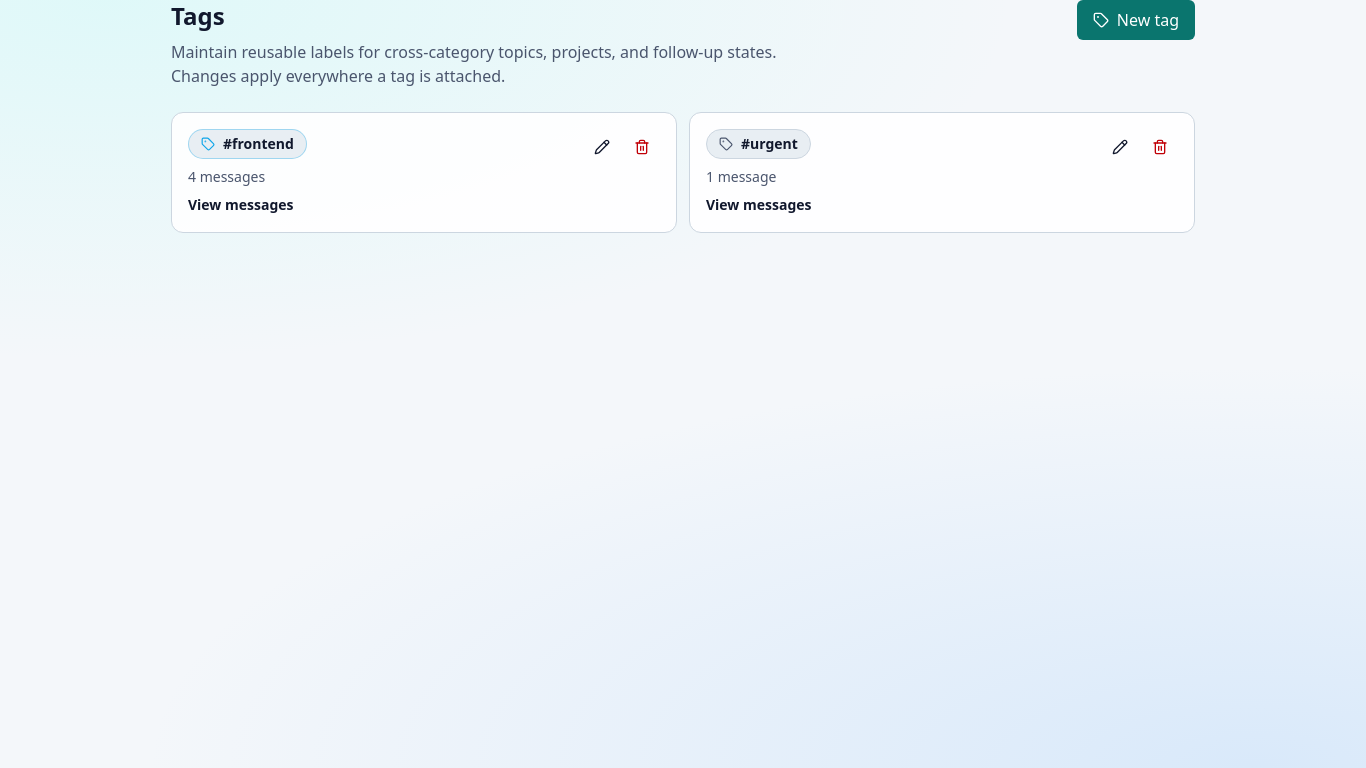
Test case: TagsPage › creates and edits a tag
Expected: the text "#frontend" is shown, [223,134,294,154]
Click the button "New tag" at (1136, 20), box [1077,0,1195,40]
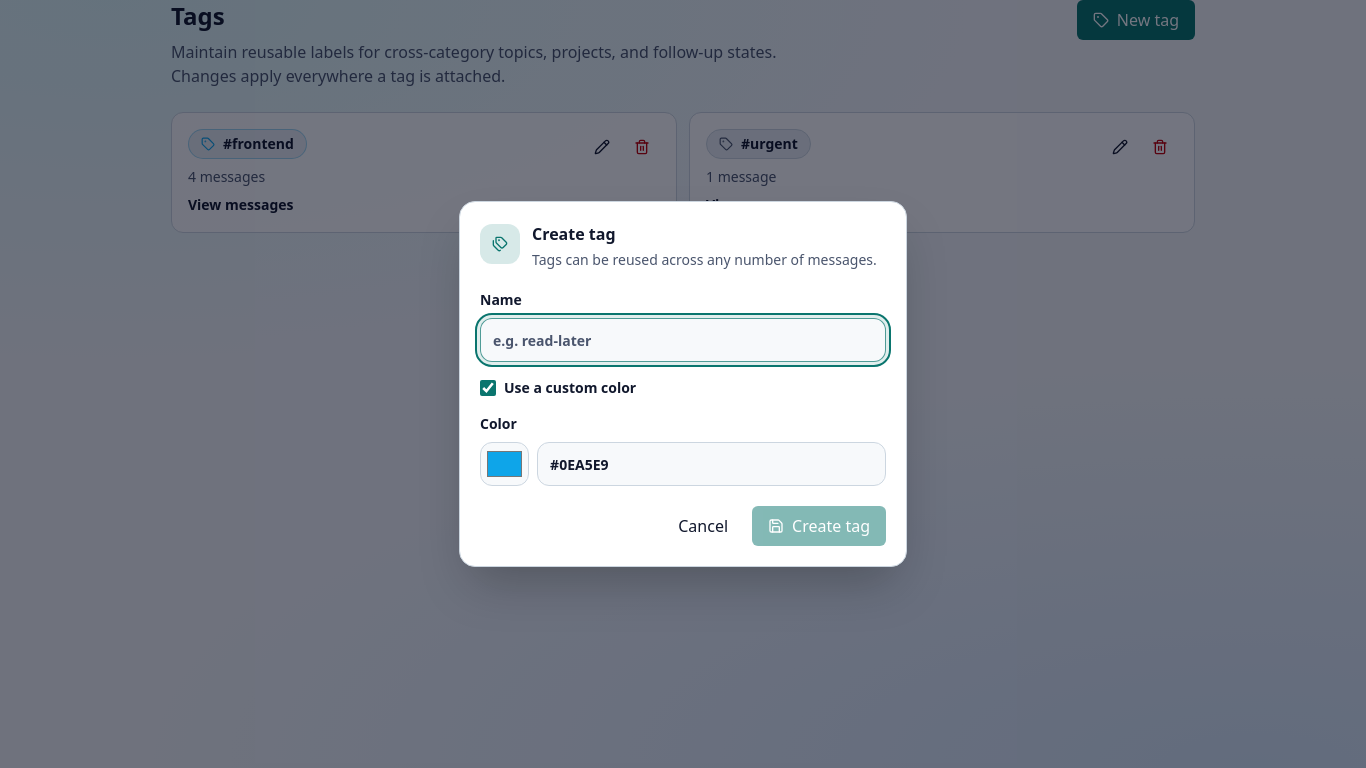
Type "research" into the field labelled "Name" at (683, 340), box [480,318,886,362]
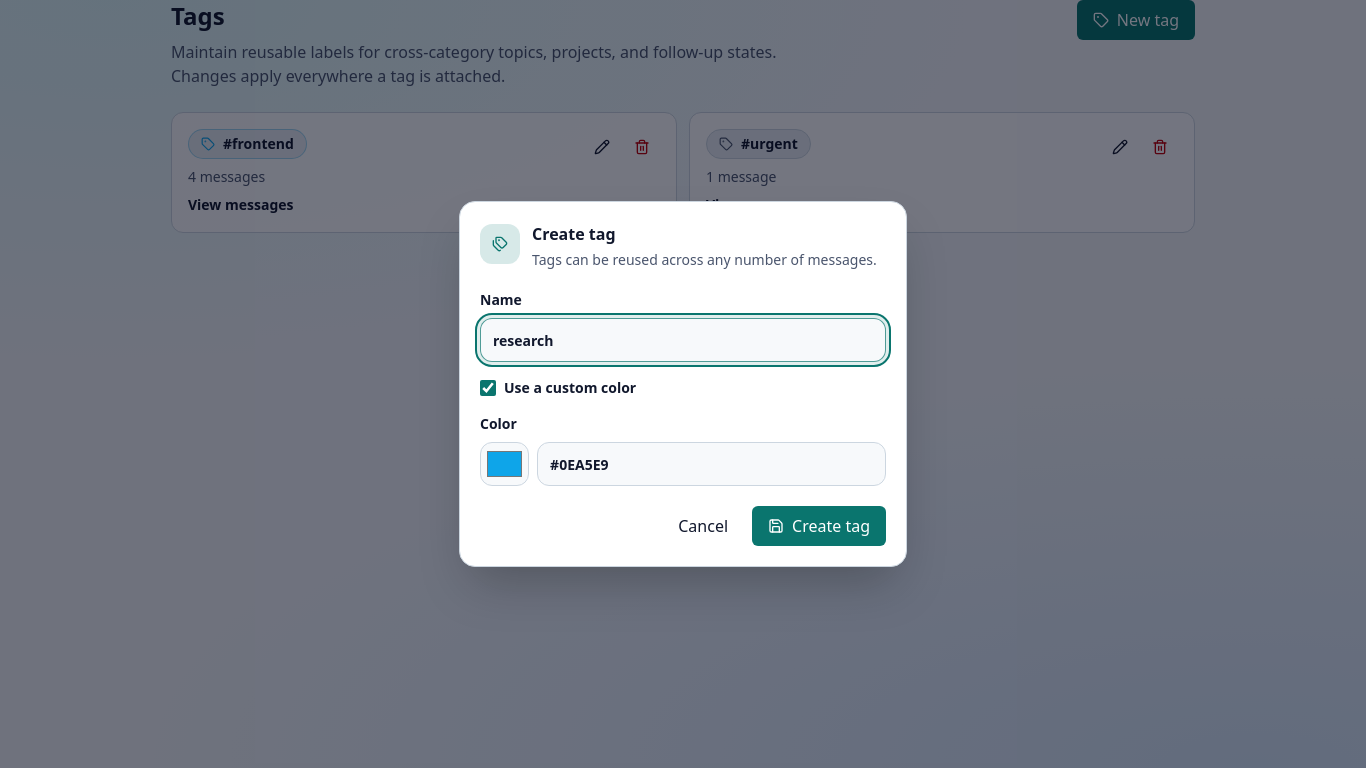
Click the button "Create tag" at (819, 526), box [752,506,886,546]
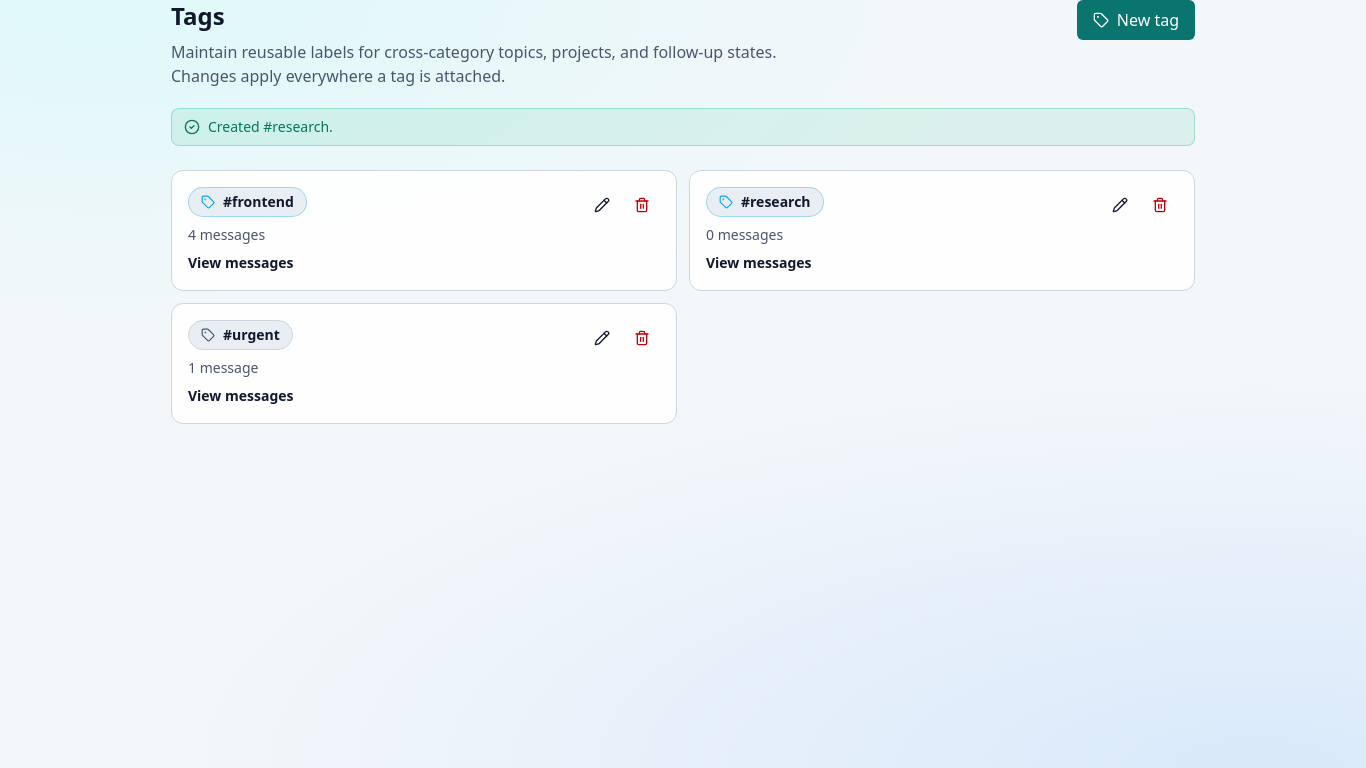
Result: the text "#research" is shown at [741,192,811,212]
Click the button named "Edit #frontend" at (602, 205), box [584,187,620,223]
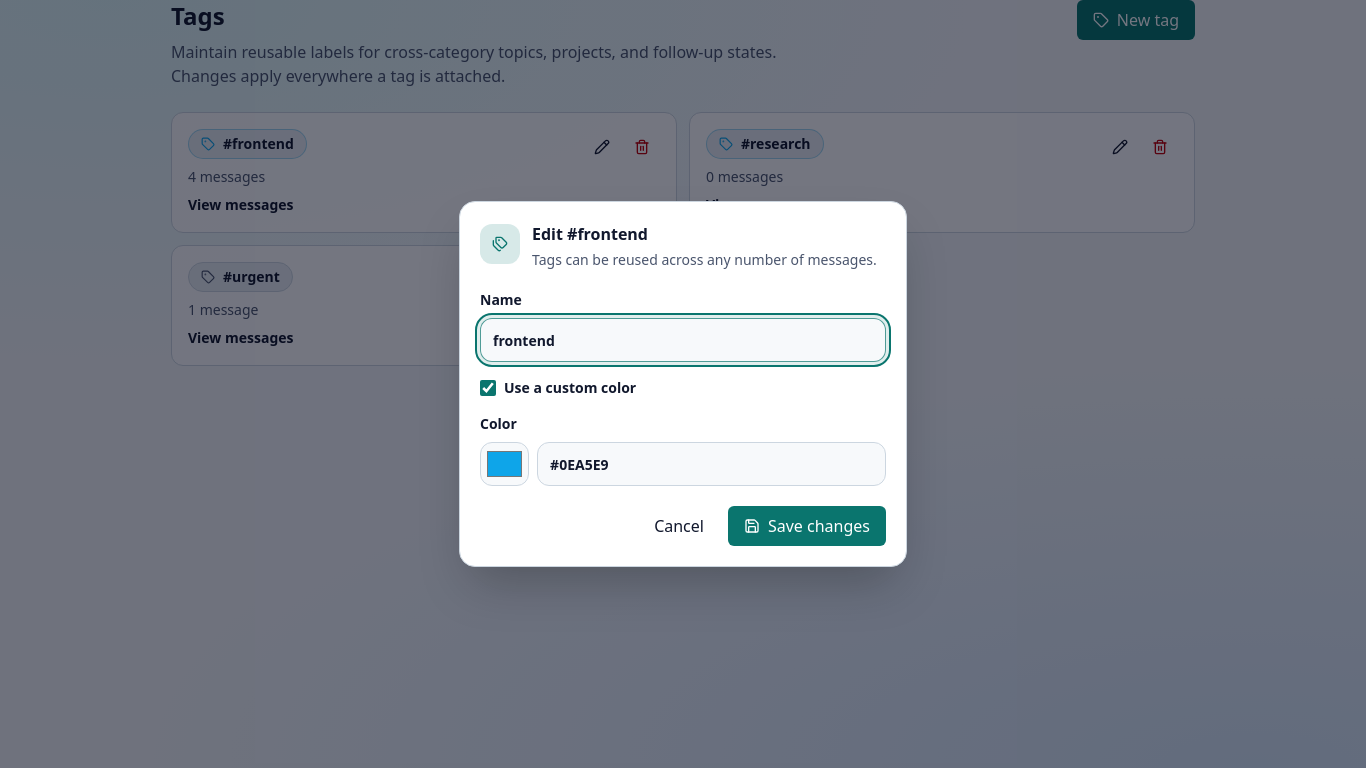
Replace the text in the field labelled "Name" with "web" at (683, 340), box [480,318,886,362]
Click the checkbox labelled "Use a custom color" at (488, 388), box [480,380,496,396]
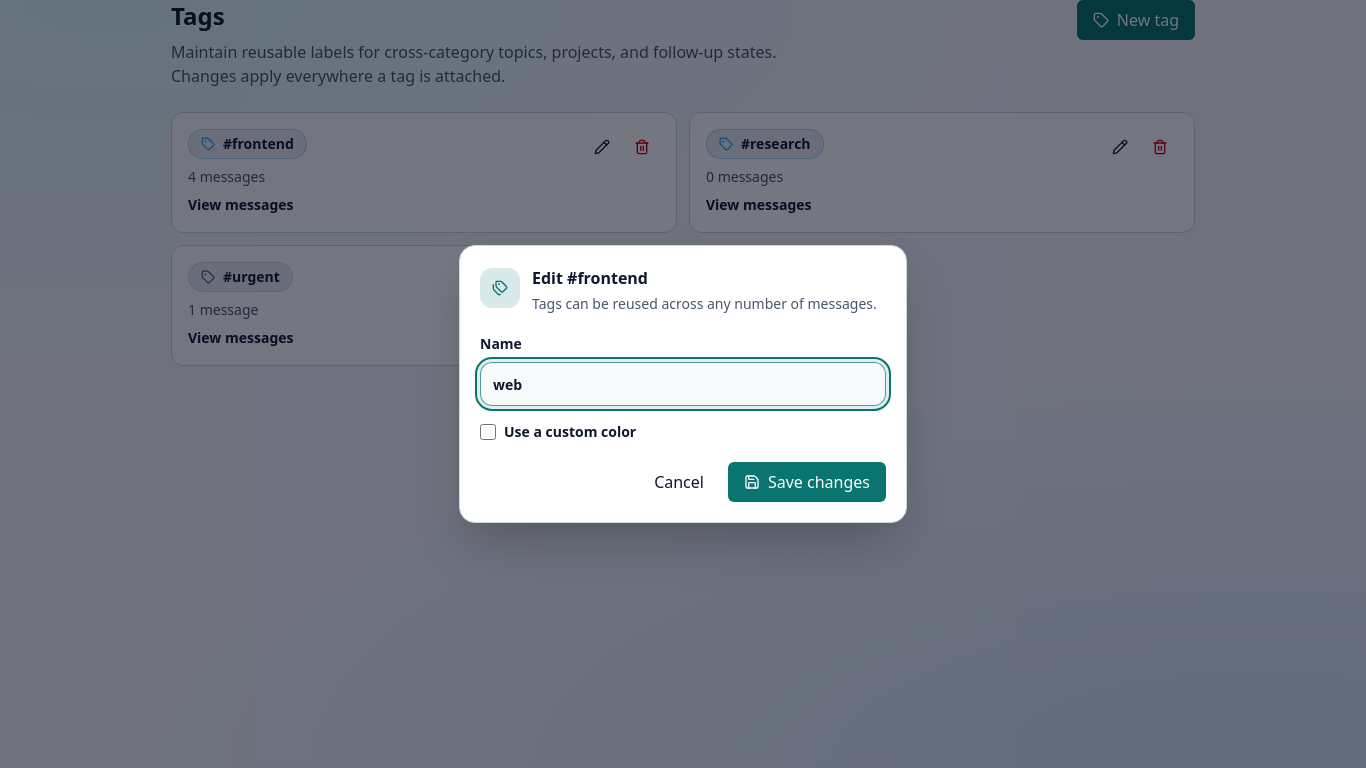
Click the button "Save changes" at (807, 482), box [728,462,886,502]
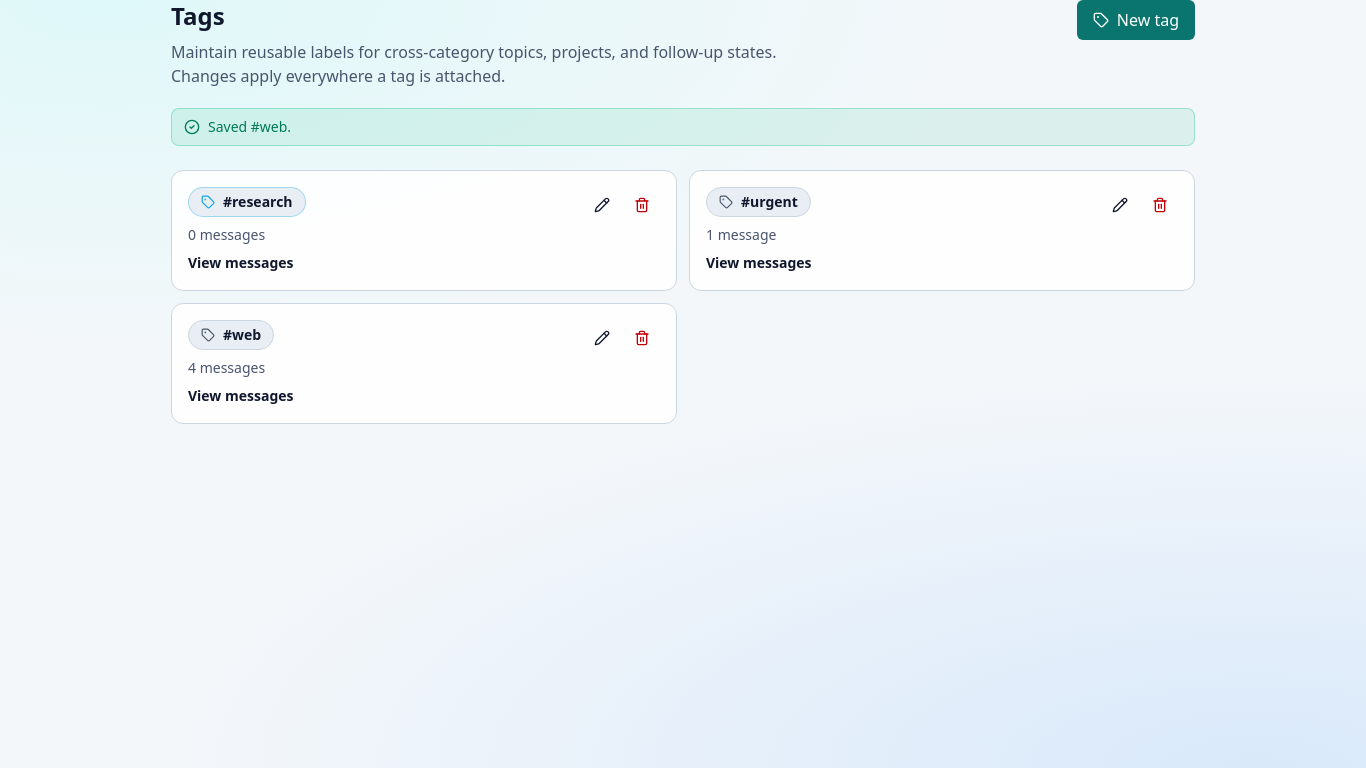
Result: the text "#web" is shown at [223,325,261,345]
